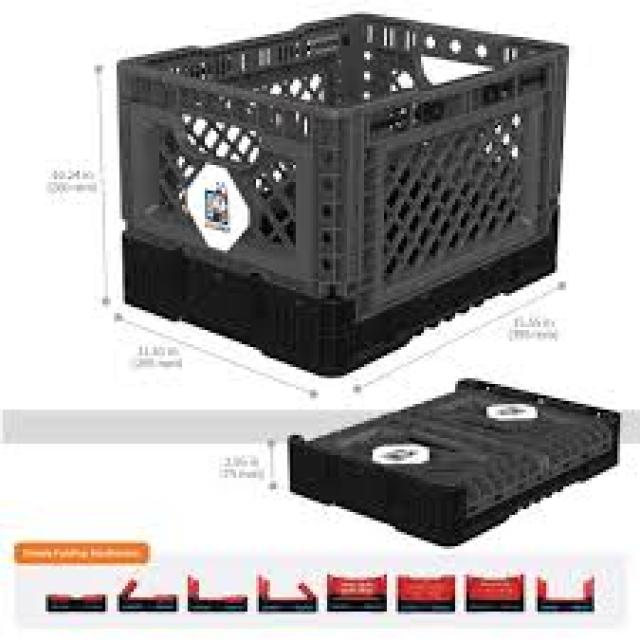basket: (106, 3, 568, 383), (187, 576, 247, 615), (259, 576, 319, 614), (401, 576, 459, 614), (330, 576, 387, 614), (469, 576, 526, 614), (540, 579, 597, 614), (119, 582, 176, 614), (45, 597, 105, 615)
